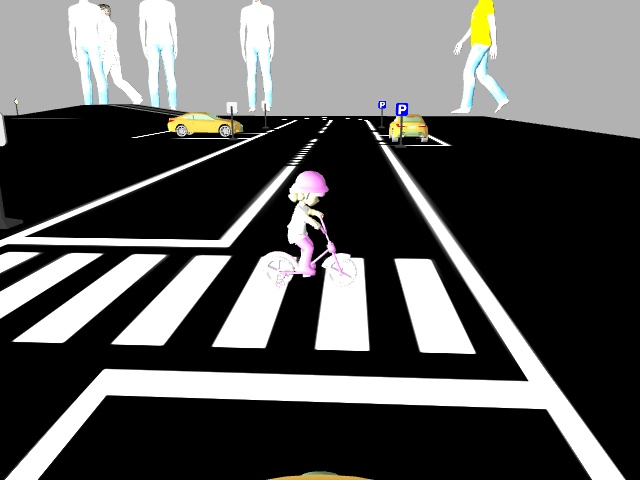Parking: (395, 98, 411, 116), (374, 96, 388, 111)
Pedestrian: (244, 169, 367, 291)
